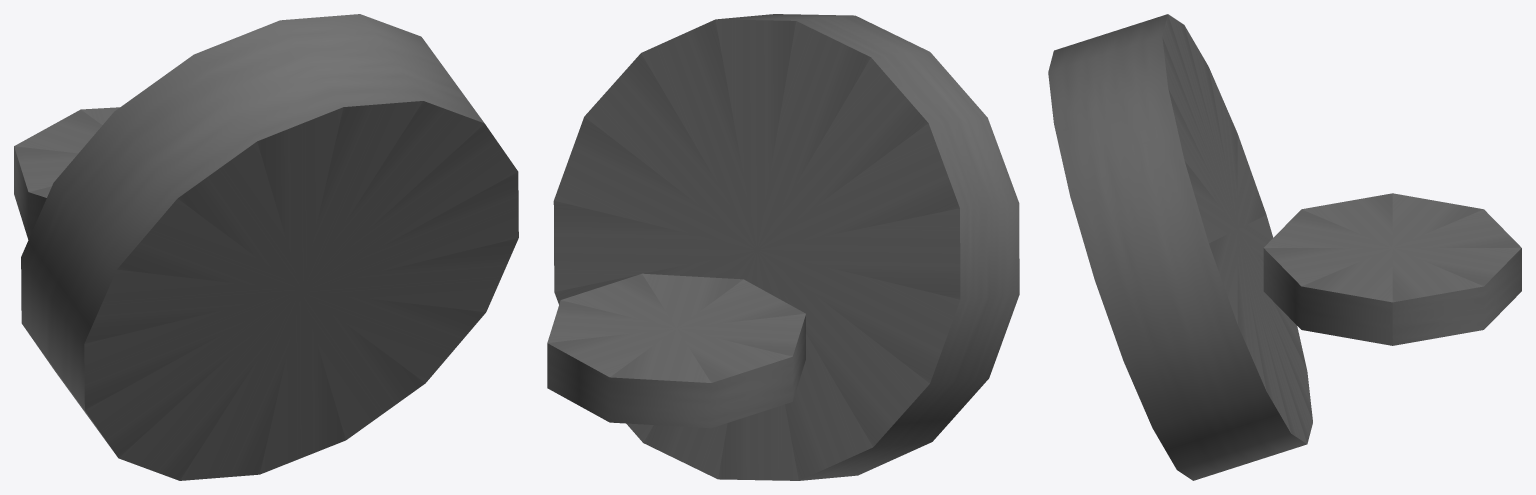
The model's file is mastarmcurve_4x1_c1_up.obj.
The picture shows the model from 3 angles, left to right: view 1: azimuth 30°, elevation 25°; view 2: azimuth 150°, elevation 25°; view 3: azimuth 270°, elevation 25°; orthographic projection. The views are drawn at different scales.
Visible parts, largest first — view 1: mastarm_4x1_c1_up; view 2: mastarm_4x1_c1_up; view 3: mastarm_4x1_c1_up.
Boxes of the visible parts, x1=… form: mastarm_4x1_c1_up: x1=14, y1=14, x2=518, y2=480; mastarm_4x1_c1_up: x1=547, y1=14, x2=1019, y2=480; mastarm_4x1_c1_up: x1=1048, y1=14, x2=1521, y2=480.
Size of the model in its own units: 0.7009 by 0.7233 by 0.7336.
